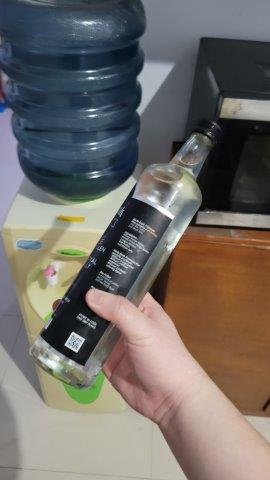botolkaca: (25, 118, 224, 389)
